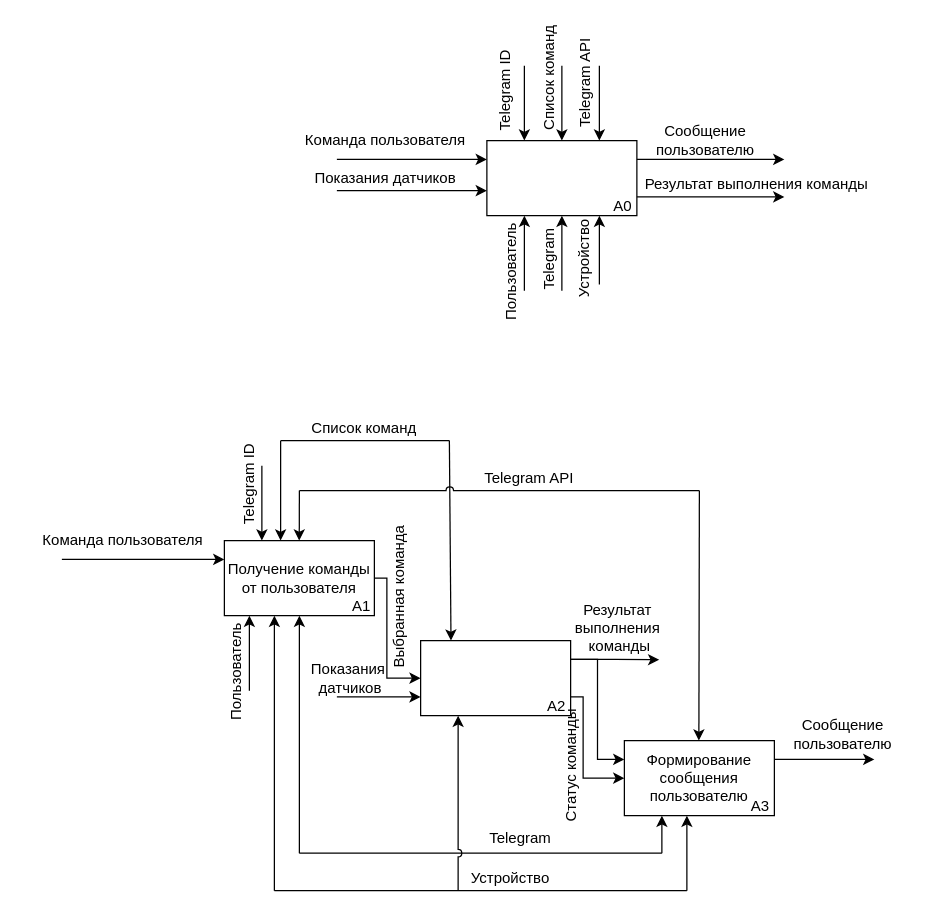
Some shapes in this 933 by 923 pixel diagram are drawn without their labels. Each missing label, with the box of its shape:
Выполнение команды: (419, 639, 571, 716)
Система умного замка с камерой: (486, 139, 637, 216)
